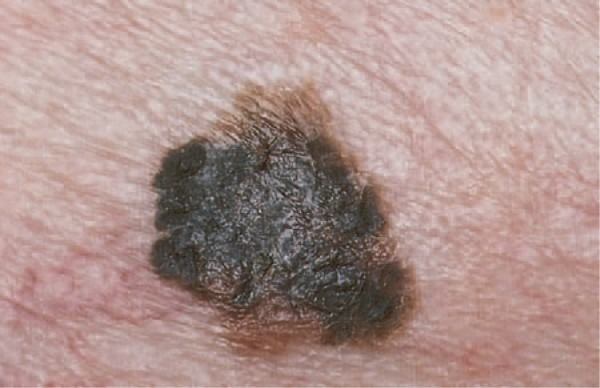melanoma: (113, 63, 423, 365)
